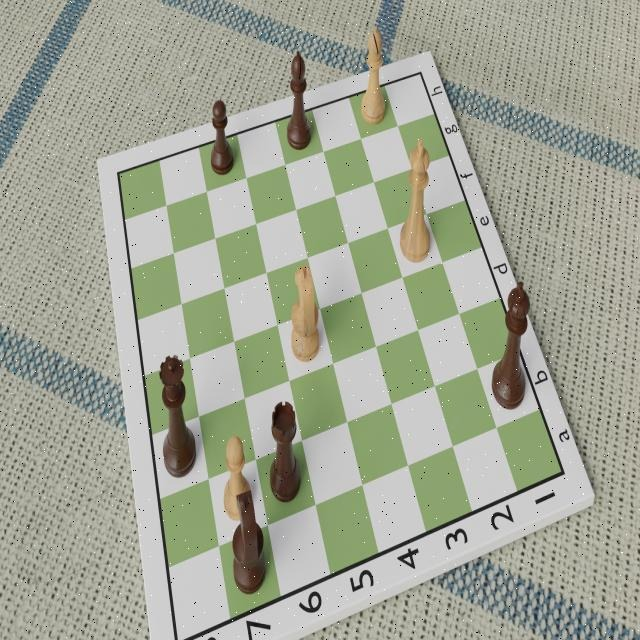black-bishop: (282, 48, 314, 155)
black-king: (492, 271, 532, 416)
black-knight: (230, 485, 268, 599)
black-pawn: (206, 94, 237, 178)
black-queen: (156, 349, 200, 481)
black-rook: (264, 392, 304, 508)
white-bishop: (357, 23, 391, 132)
white-king: (396, 136, 431, 262)
white-knight: (289, 262, 323, 367)
white-pawn: (218, 431, 255, 525)
